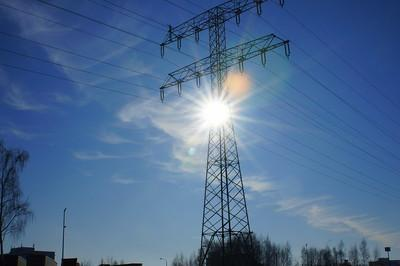power_tower: (153, 0, 293, 265)
